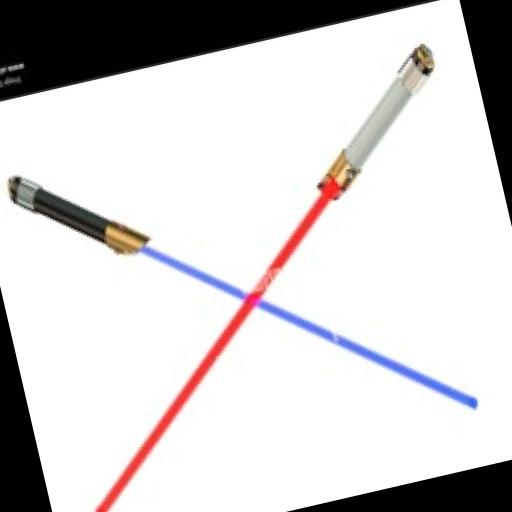lightsaber: (3, 84, 486, 506)
sith saber: (3, 40, 512, 512)
